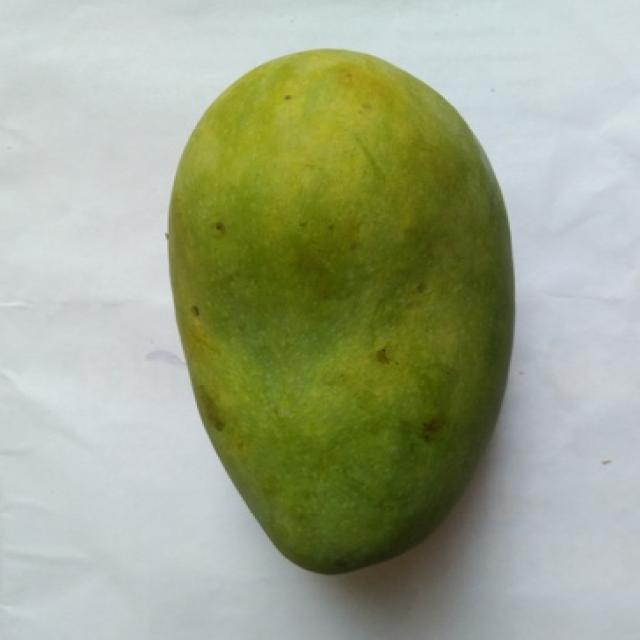Mango: (169, 51, 512, 571)
